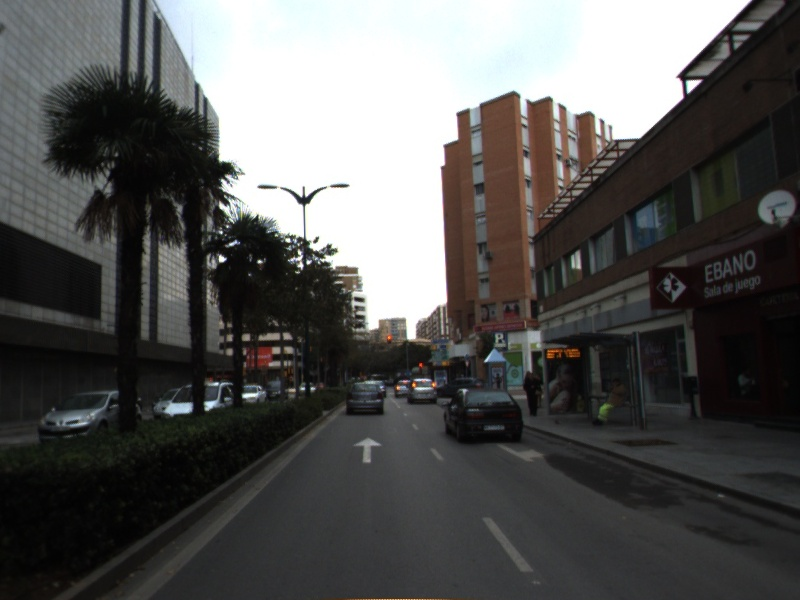STRAIGHT: (351, 434, 385, 465)
